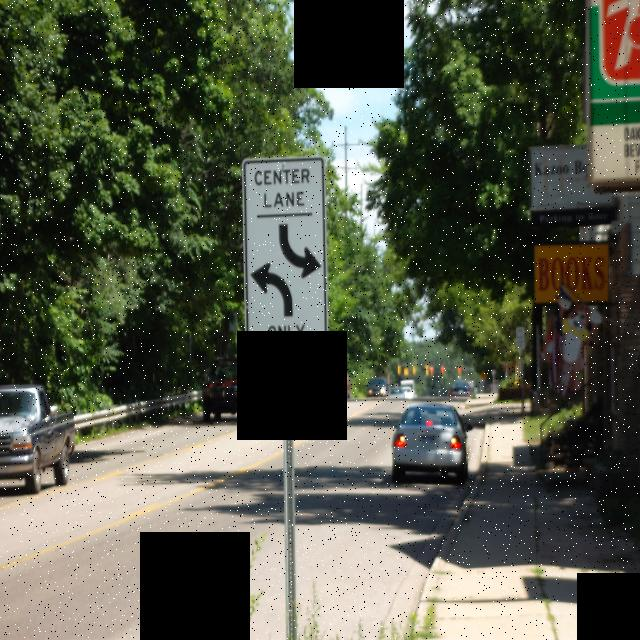regulatory: (240, 154, 326, 358)
